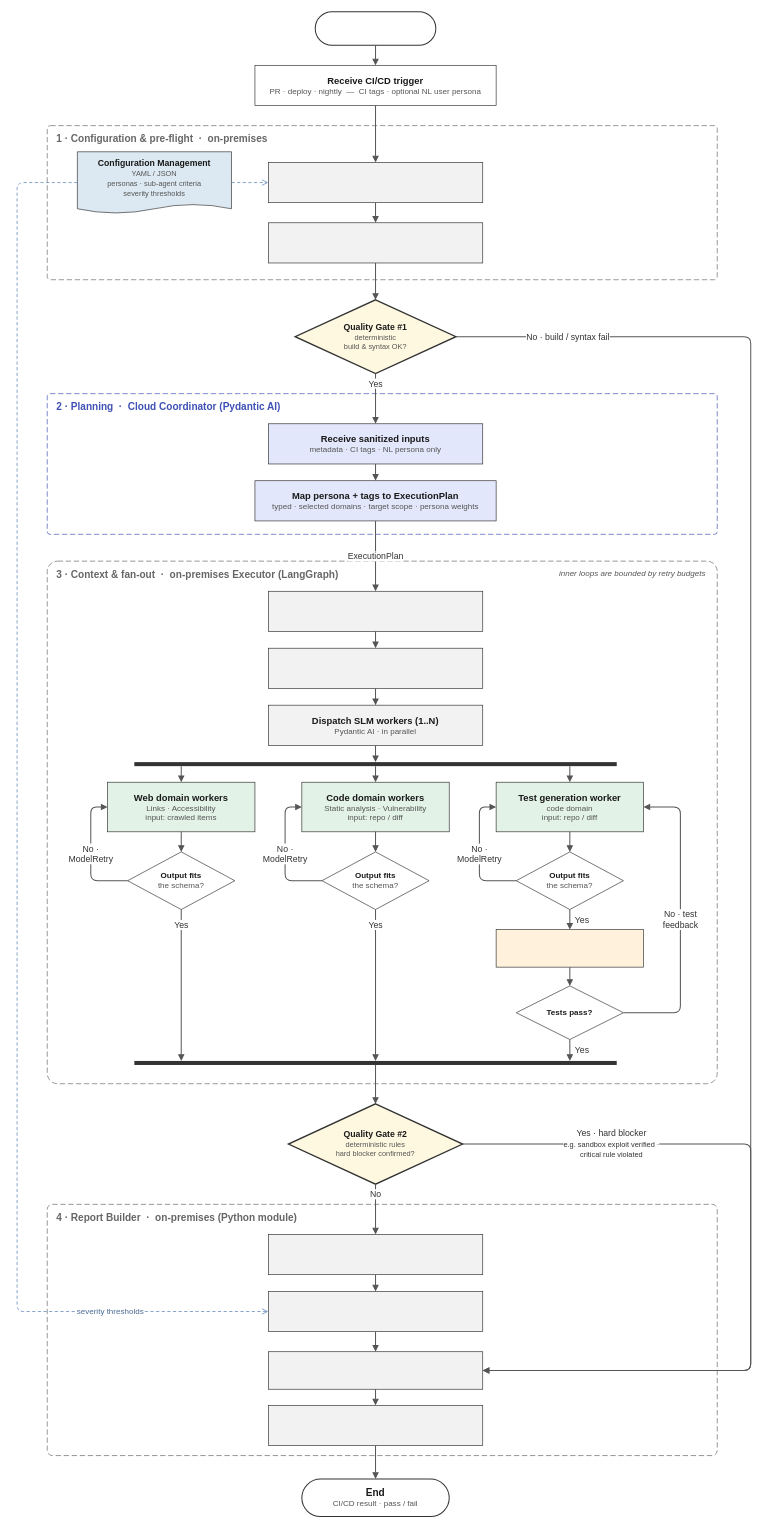
The diagram is 768 pixels wide and 1529 high, and some of its shapes have lost their labels. Each missing label, with the centre of its shape:
"Apply severity thresholds filters low-confidence SLM noise" belongs at (375,1311).
"Export JSON · HTML artifacts to the CI/CD pipeline" belongs at (375,1425).
"Gather context Crawler on the preview URL · Repo / Diff" belongs at (375,611).
"Load & validate configuration" belongs at (375,182).
"Merge all typed WorkerReports" belongs at (375,1254).
"Run build / syntax check fast · deterministic" belongs at (375,242).
"Run tests in isolated Sandbox" belongs at (569,948).
"Set pass / fail" belongs at (375,1370).
"Split ExecutionPlan into tasks scoped page & file tasks" belongs at (375,668).
"Start" belongs at (375,28).
